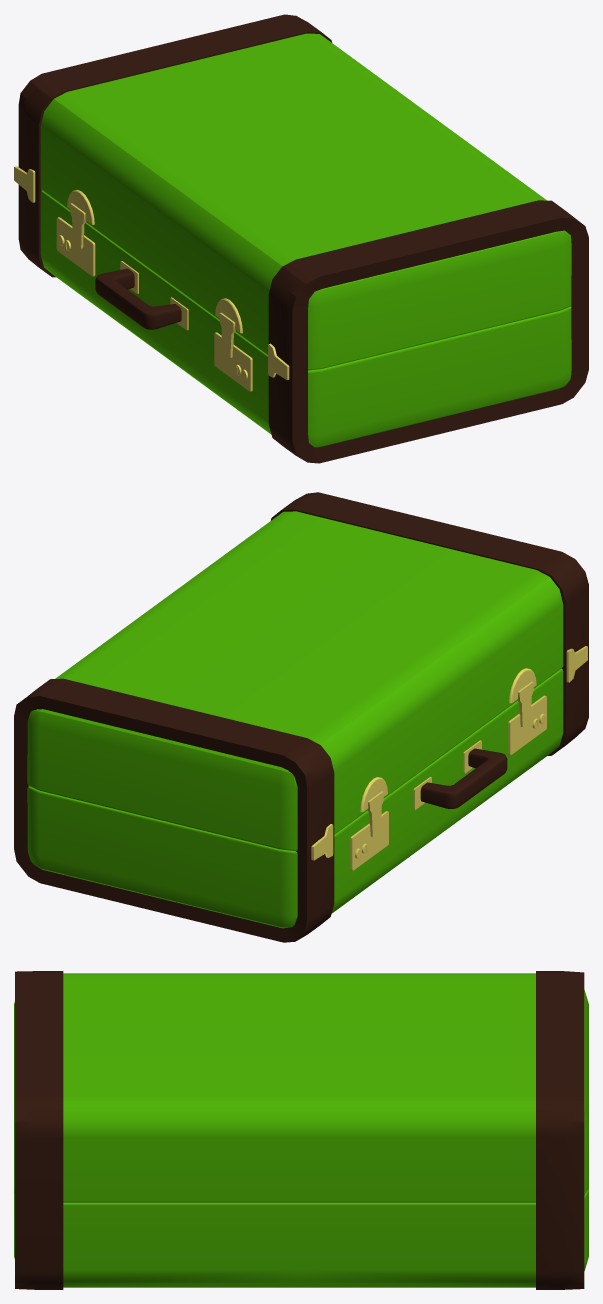
File: green briefcase.fbx
3 views of the same model, one above another, from view 1: azimuth 30°, elevation 25°; view 2: azimuth 150°, elevation 25°; view 3: azimuth 270°, elevation 25° (orthographic). The views are drawn at different scales.
Parts seen in each view (by area): view 1: polySurface2; view 2: polySurface2; view 3: polySurface2.
Part boxes in pixels (x1,y1,x2,y2): polySurface2: (14, 14, 588, 463); polySurface2: (14, 492, 588, 942); polySurface2: (14, 971, 588, 1289).
Bounding box in the file's own units: 10.9 × 5.89 × 16.03.
